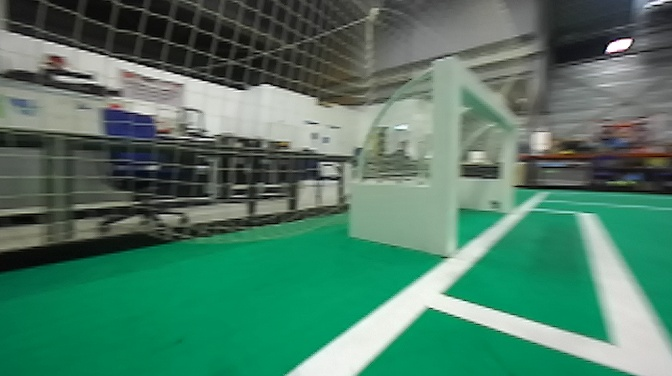goalpost: (433, 57, 459, 259), (497, 108, 519, 212)
